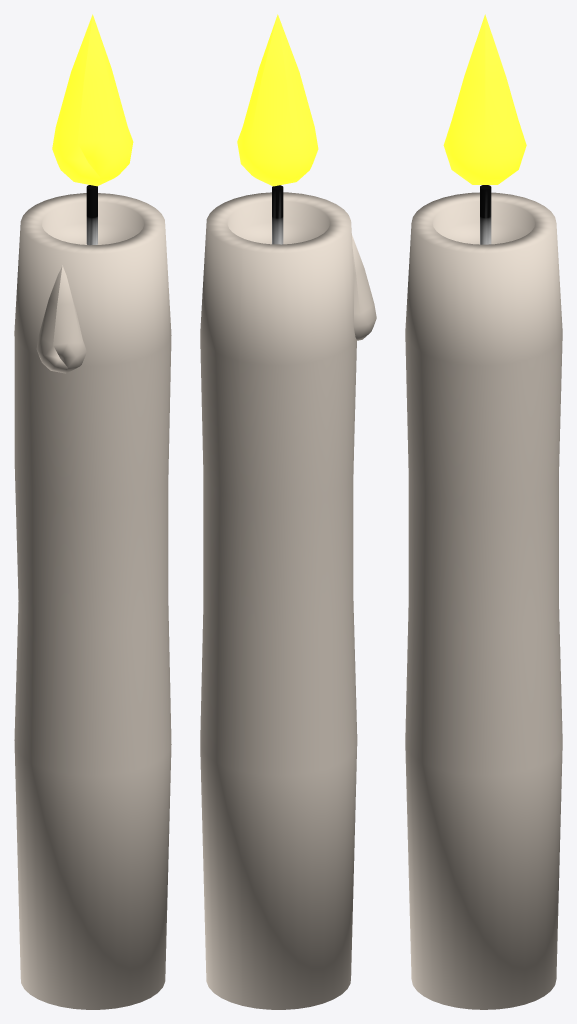
Rendered from candle.glb.
3 renders of one model, left to right at view 1: azimuth 30°, elevation 25°; view 2: azimuth 150°, elevation 25°; view 3: azimuth 270°, elevation 25°, orthographic.
Parts seen in each view (by area): view 1: candle; view 2: candle; view 3: candle.
Part boxes in pixels (box(x1,y1,x2,y2)): candle: box(14, 14, 171, 1009); candle: box(200, 14, 376, 1009); candle: box(405, 14, 562, 1009).
Size of the model in its own units: 0.5364 by 3.5 by 0.5178.
